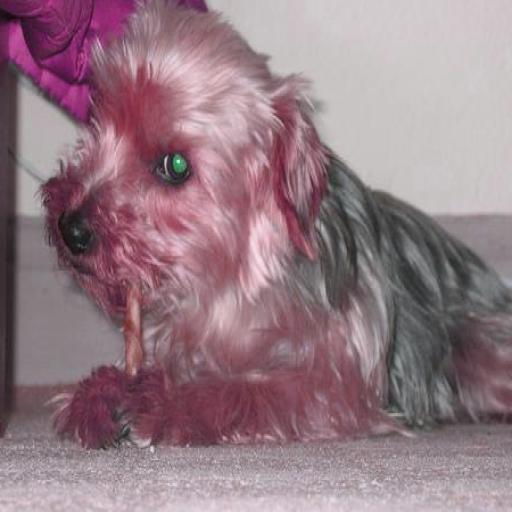dog_face: (39, 0, 323, 331)
